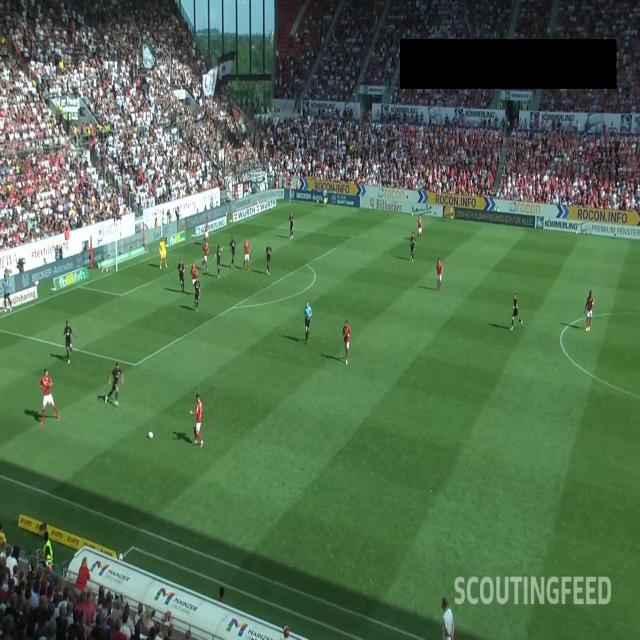ball: (147, 430, 154, 440)
